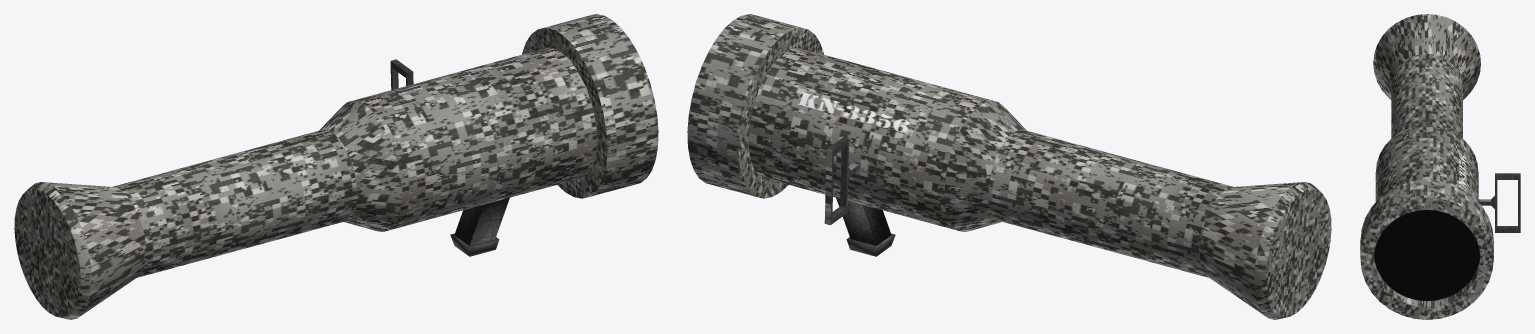
File: launcher_000001.obj
3 views of the same model, side by side, from view 1: azimuth 30°, elevation 25°; view 2: azimuth 150°, elevation 25°; view 3: azimuth 270°, elevation 25° (orthographic). The views are drawn at different scales.
Parts seen in each view (by area): view 1: Cylinder; view 2: Cylinder; view 3: Cylinder.
Boxes of the visible parts, x1,y1,x2,y2 form: Cylinder: (14,14,658,319); Cylinder: (687,14,1331,319); Cylinder: (1360,14,1520,319).
Bounding box in the file's own units: 8.77 × 2.85 × 2.81.
1 material, 1 textured.
